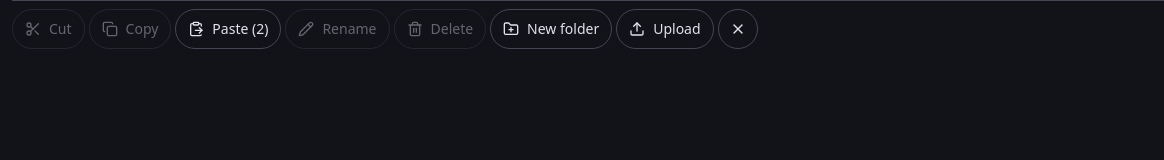
Test: accepted items refresh Background jobs while a later item is still being admitted
Click the button "Paste (2)" at (228, 29), box [175,9,281,49]
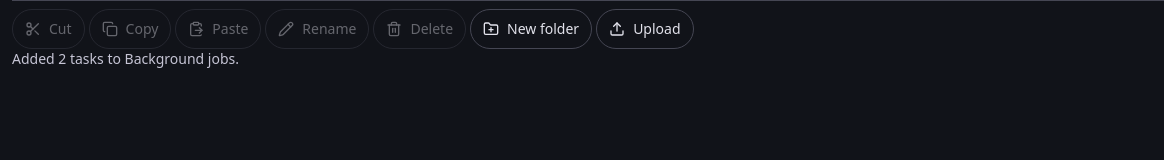
Check: the button named "Pasting… (2)" is disabled, box [175,9,261,49]
Check: the text "Added 2 tasks to Background jobs." is shown, box [12,49,239,68]
